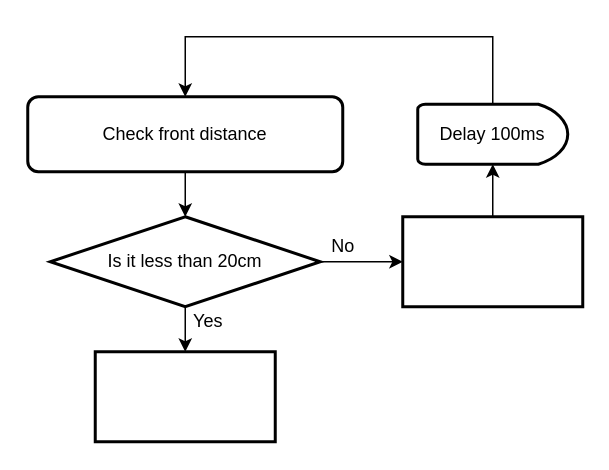
Image size: 609x470. Some labels were removed from this diagram. The centre of each missing label's shape, as x and y in pixels:
"Look around" goes at (x=184, y=396).
"Move forward" goes at (x=492, y=261).
